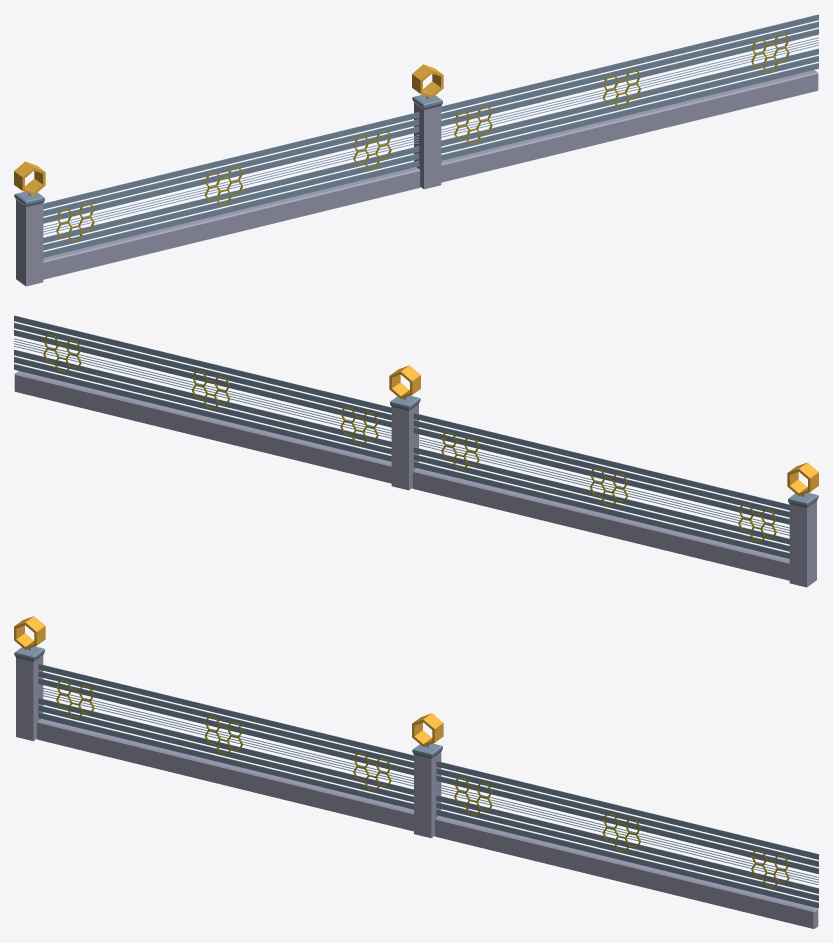
The model's file is fence.fbx.
3 views of the same model, one above another, from view 1: azimuth 30°, elevation 25°; view 2: azimuth 150°, elevation 25°; view 3: azimuth 330°, elevation 25° (orthographic).
Parts seen in each view (by area): view 1: fence.001; view 2: fence.001; view 3: fence.001.
Part boxes in pixels (x1,y1,x2,y2): fence.001: (14,14,818,286); fence.001: (14,315,818,587); fence.001: (14,616,818,928).
Size of the model in its own units: 1084 by 150 by 26.22.
